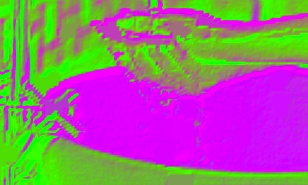washing hand: (84, 4, 221, 118)
